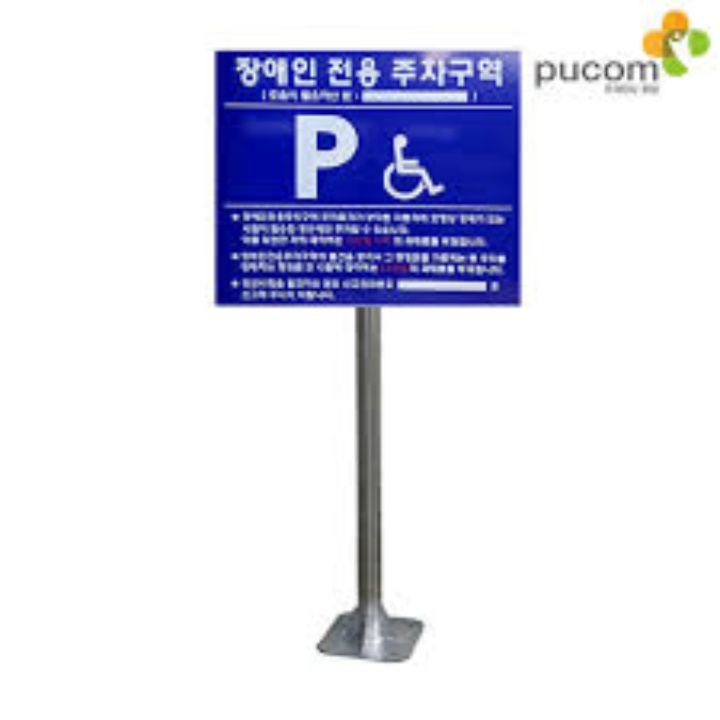parking: (285, 108, 361, 204)
